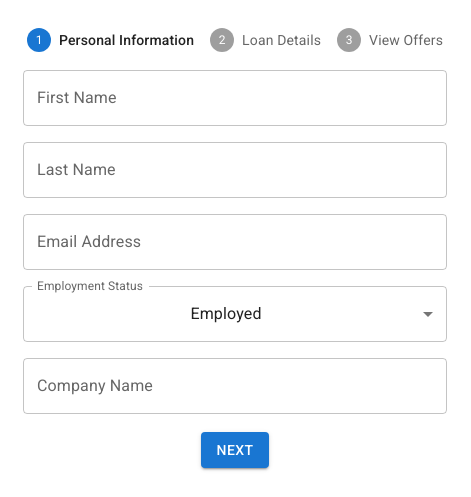
Test case: Loan Application › User Details Validation › Employment Status › should show company name when employment status is 'Employed'
The image size is (471, 497).
Click the element with test id "employment-status-select" at (235, 314), box [23, 286, 447, 342]
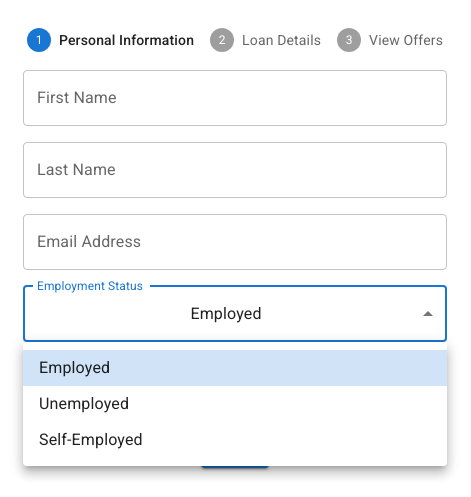
Click the option with test id "employment-status-employed" at (75, 368), box [23, 350, 447, 386]
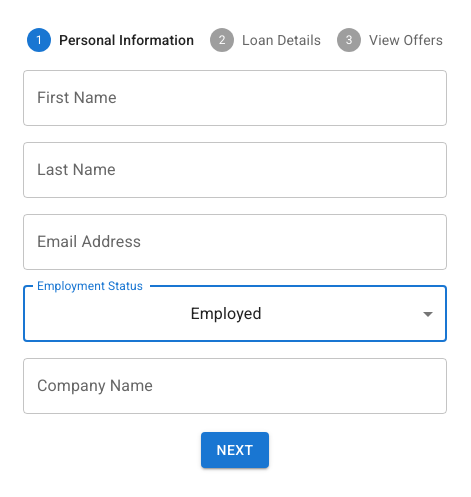
Type "Tech Corp" into the field named "companyName" at (235, 386), box [23, 358, 447, 414]
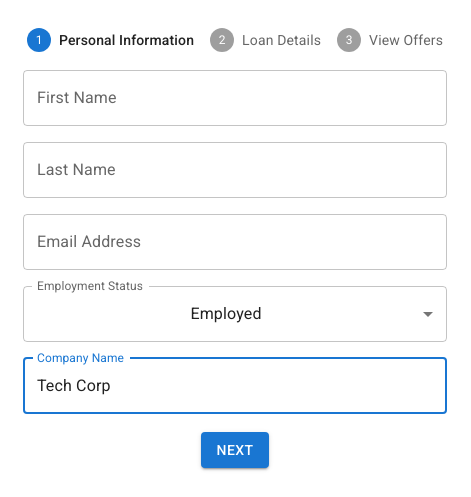
Clear the field named "companyName" at (235, 386), box [23, 358, 447, 414]
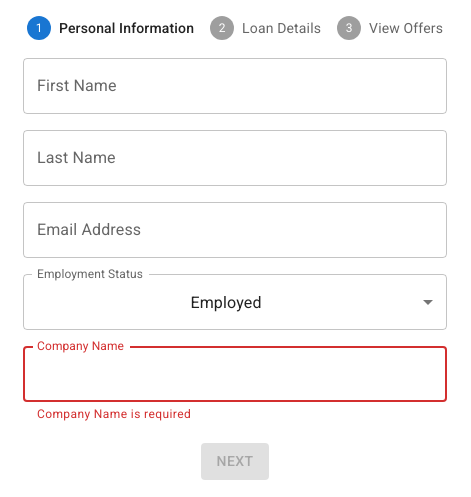
Expected: the text "Company Name is required" is shown, [37, 407, 191, 421]
